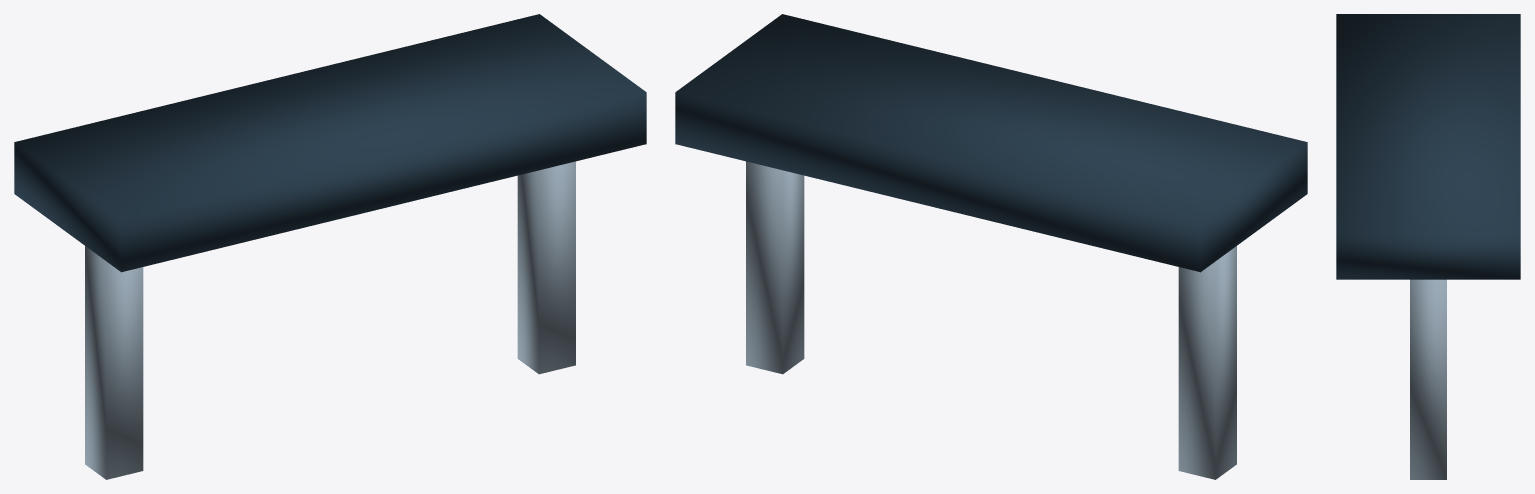
File: hip_thrust_bench_a.glb
3 views of the same model, side by side, from view 1: azimuth 30°, elevation 25°; view 2: azimuth 150°, elevation 25°; view 3: azimuth 270°, elevation 25° (orthographic). The views are drawn at different scales.
Parts seen in each view (by area): view 1: pad, legs; view 2: pad, legs; view 3: pad, legs.
Part boxes in pixels (x1,y1,x2,y2): pad: (14, 14, 646, 272); legs: (85, 161, 575, 479); pad: (675, 14, 1307, 272); legs: (746, 161, 1236, 479); pad: (1336, 14, 1520, 279); legs: (1410, 279, 1446, 479).
Size of the model in its own units: 0.85 by 0.46 by 0.3.
